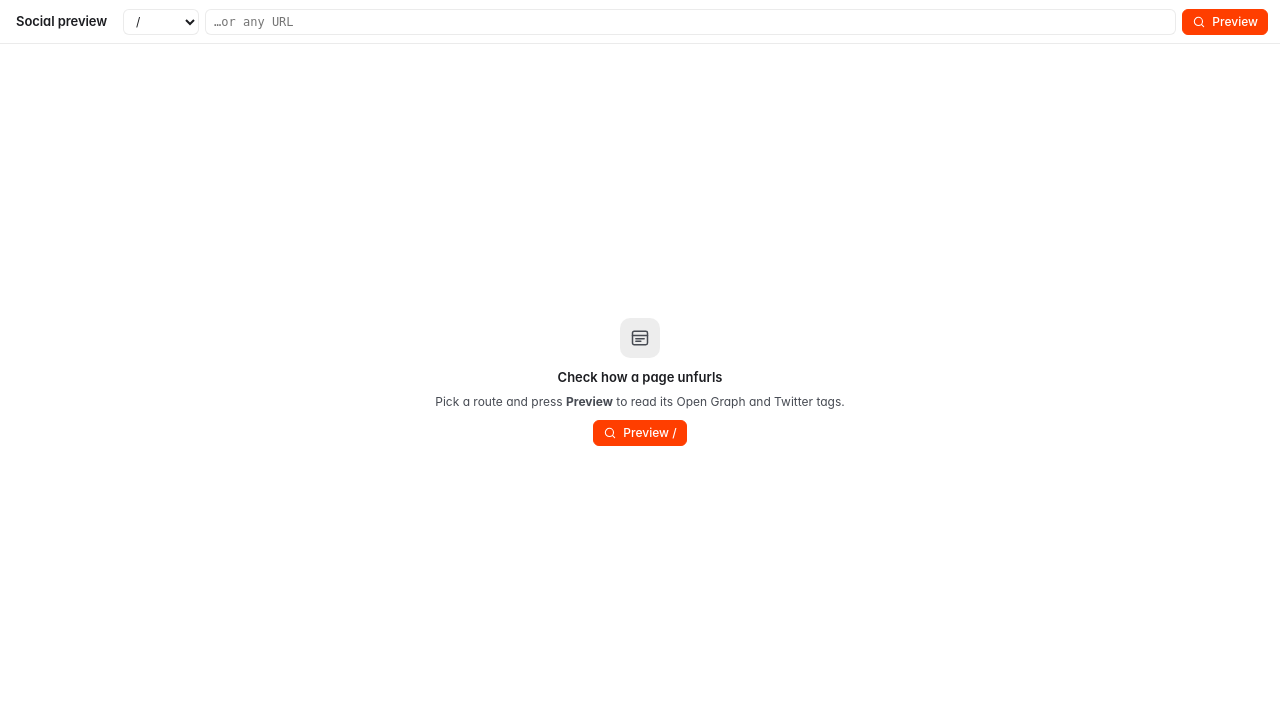
Scenario: OGPreview › reports missing tags and lists the issues
Note: The explainer's own button runs the preview too.
Click the button "Preview /": (640, 433) [593, 420, 687, 446]
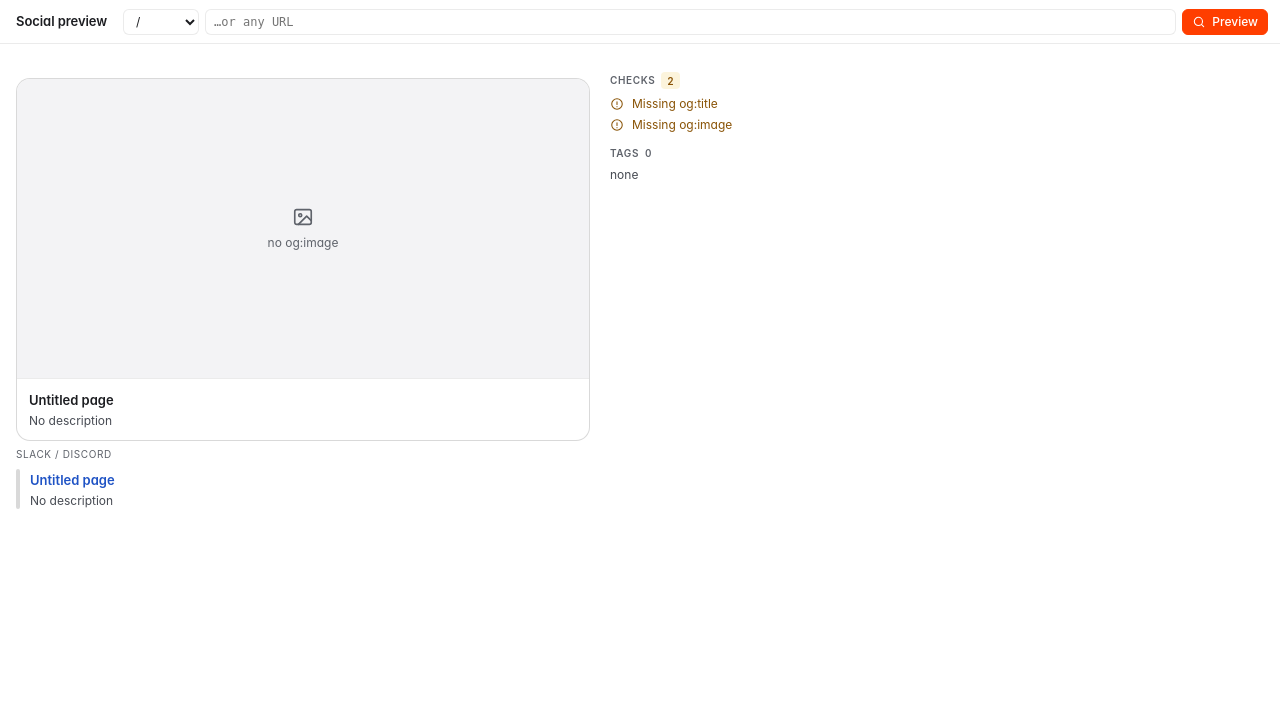
Now the text "Untitled page" is shown 2 times, box [29, 392, 114, 408]; [30, 471, 115, 490]
Now the text "No description" is shown 2 times, box [29, 413, 112, 428]; [30, 492, 115, 509]
Now the text "no og:image" is shown, box [268, 206, 338, 251]
